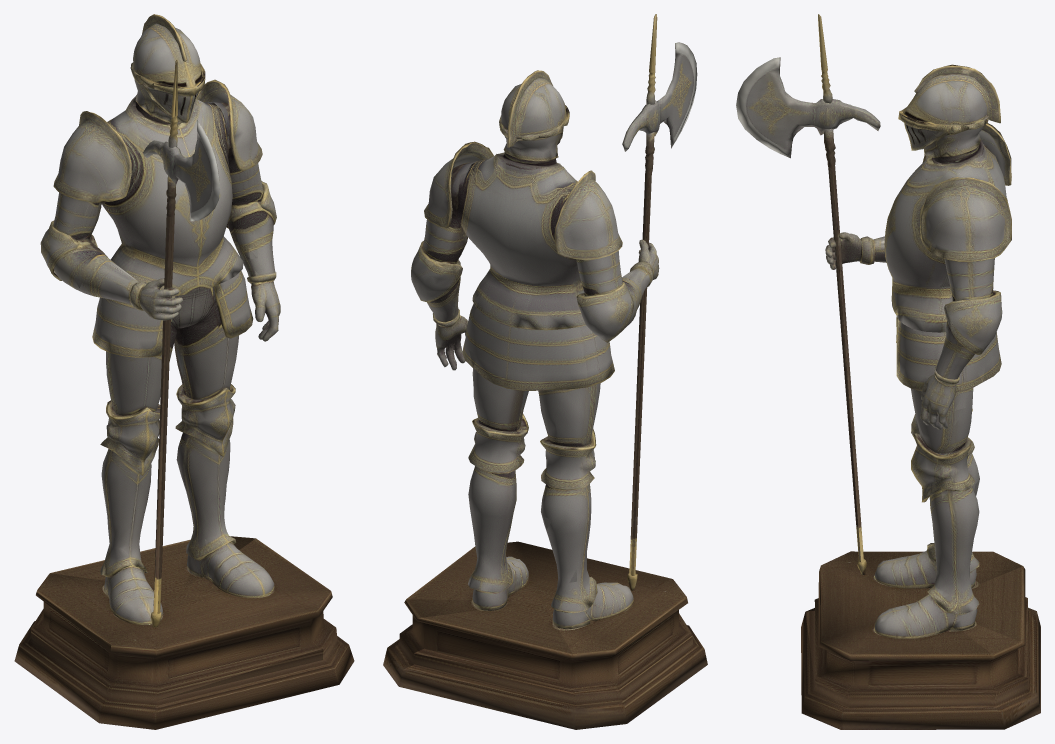
The model's file is rrr_prop_armor_v1.glb.
The picture shows the model from 3 angles, left to right: view 1: azimuth 30°, elevation 25°; view 2: azimuth 150°, elevation 25°; view 3: azimuth 270°, elevation 25°; orthographic projection. The views are drawn at different scales.
Visible parts, largest first — view 1: Mesh_0; view 2: Mesh_0; view 3: Mesh_0.
Part boxes in pixels (bbox=[...]): Mesh_0: bbox=[14, 14, 354, 729]; Mesh_0: bbox=[383, 14, 707, 729]; Mesh_0: bbox=[736, 14, 1040, 729].
Size of the model in its own units: 0.733 by 1.8 by 0.7928.
Materials: 1 (1 with a texture image).
